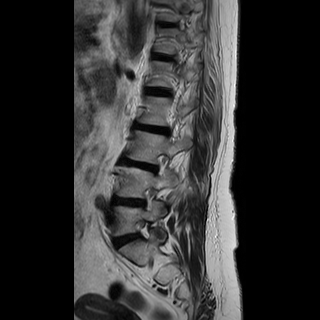LFS0: (130, 214, 157, 247), (135, 181, 161, 212), (147, 147, 171, 179)
